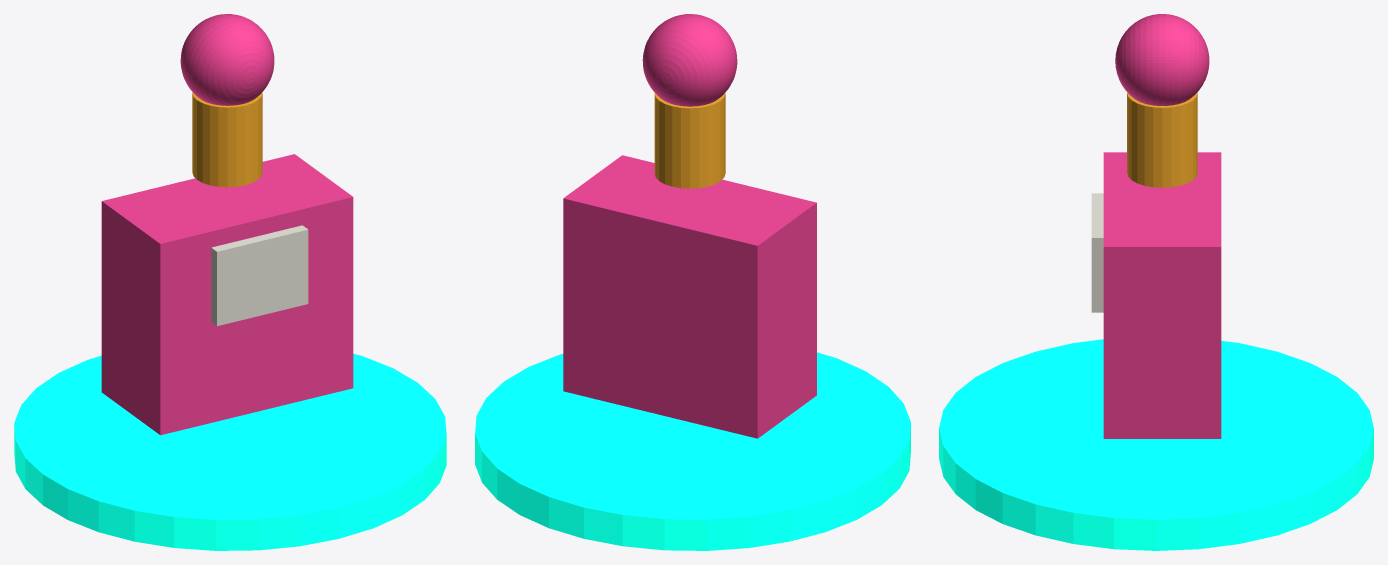
The model's file is fashion_perfume.dae.
3 views of the same model, side by side, from view 1: azimuth 30°, elevation 25°; view 2: azimuth 150°, elevation 25°; view 3: azimuth 270°, elevation 25° (orthographic).
Parts seen in each view (by area): view 1: 06_16_Popular_Fashion_Perfume_ROOT_base, 06_16_Popular_Fashion_Perfume_part_01, 06_16_Popular_Fashion_Perfume_part_04, 06_16_Popular_Fashion_Perfume_part_03, 06_16_Popular_Fashion_Perfume_part_02; view 2: 06_16_Popular_Fashion_Perfume_part_01, 06_16_Popular_Fashion_Perfume_ROOT_base, 06_16_Popular_Fashion_Perfume_part_03, 06_16_Popular_Fashion_Perfume_part_02; view 3: 06_16_Popular_Fashion_Perfume_ROOT_base, 06_16_Popular_Fashion_Perfume_part_01, 06_16_Popular_Fashion_Perfume_part_03, 06_16_Popular_Fashion_Perfume_part_02, 06_16_Popular_Fashion_Perfume_part_04.
Part boxes in pixels (x1=…): 06_16_Popular_Fashion_Perfume_ROOT_base: x1=14, y1=353, x2=446, y2=550; 06_16_Popular_Fashion_Perfume_part_01: x1=101, y1=154, x2=353, y2=435; 06_16_Popular_Fashion_Perfume_part_04: x1=211, y1=225, x2=308, y2=326; 06_16_Popular_Fashion_Perfume_part_03: x1=180, y1=14, x2=274, y2=105; 06_16_Popular_Fashion_Perfume_part_02: x1=192, y1=92, x2=262, y2=187; 06_16_Popular_Fashion_Perfume_part_01: x1=563, y1=155, x2=816, y2=438; 06_16_Popular_Fashion_Perfume_ROOT_base: x1=475, y1=352, x2=910, y2=550; 06_16_Popular_Fashion_Perfume_part_03: x1=642, y1=14, x2=737, y2=106; 06_16_Popular_Fashion_Perfume_part_02: x1=654, y1=93, x2=725, y2=188; 06_16_Popular_Fashion_Perfume_ROOT_base: x1=939, y1=339, x2=1373, y2=550; 06_16_Popular_Fashion_Perfume_part_01: x1=1103, y1=152, x2=1221, y2=438; 06_16_Popular_Fashion_Perfume_part_03: x1=1115, y1=14, x2=1209, y2=105; 06_16_Popular_Fashion_Perfume_part_02: x1=1127, y1=92, x2=1197, y2=187; 06_16_Popular_Fashion_Perfume_part_04: x1=1091, y1=193, x2=1103, y2=312.
Size of the model in its own units: 0.76 by 0.85 by 0.76.
